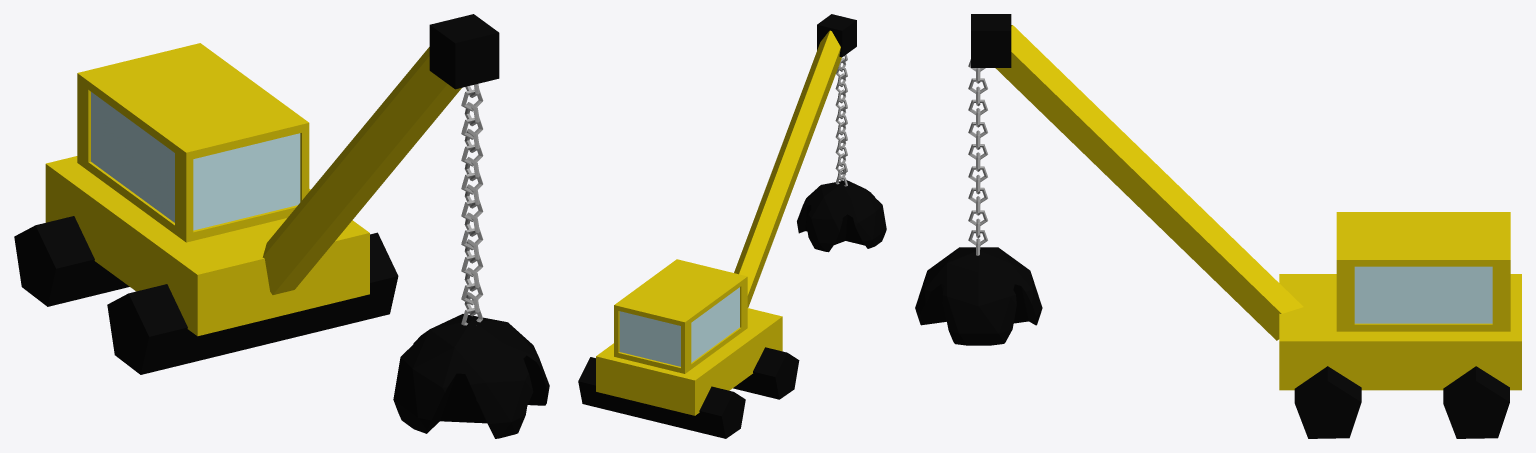
Rendered from Gruas.fbx.
The picture shows the model from 3 angles, left to right: view 1: azimuth 30°, elevation 25°; view 2: azimuth 150°, elevation 25°; view 3: azimuth 270°, elevation 25°; orthographic projection. The views are drawn at different scales.
Parts seen in each view (by area): view 1: Cube, Icosphere, Cylinder, Cube.003, Cylinder.002, Cylinder.001, Cube.001, Torus.001, Torus; view 2: Cube, Cylinder, Icosphere, Cube.003, Cylinder.001, Cylinder.002, Cube.001, Torus.001, Torus; view 3: Cube, Cylinder, Icosphere, Cube.003, Cylinder.002, Cylinder.001, Cube.001, Torus.001, Torus.
Boxes of the visible parts, <box> form: Cube: <box>45,43,369,336</box>; Icosphere: <box>393,314,549,438</box>; Cylinder: <box>262,47,461,294</box>; Cube.003: <box>91,92,300,230</box>; Cylinder.002: <box>107,232,398,374</box>; Cylinder.001: <box>14,216,129,306</box>; Cube.001: <box>429,14,499,89</box>; Torus.001: <box>461,184,483,305</box>; Torus: <box>461,84,483,194</box>; Cube: <box>596,259,782,415</box>; Cylinder: <box>734,30,841,307</box>; Icosphere: <box>797,180,886,252</box>; Cube.003: <box>619,287,739,366</box>; Cylinder.001: <box>578,357,745,438</box>; Cylinder.002: <box>733,347,799,399</box>; Cube.001: <box>817,14,856,57</box>; Torus.001: <box>835,105,847,174</box>; Torus: <box>835,54,847,110</box>; Cube: <box>1279,212,1521,390</box>; Cylinder: <box>995,25,1303,340</box>; Icosphere: <box>915,247,1042,345</box>; Cube.003: <box>1354,266,1492,323</box>; Cylinder.002: <box>1294,366,1361,438</box>; Cylinder.001: <box>1443,366,1509,438</box>; Cube.001: <box>971,14,1011,67</box>; Torus.001: <box>968,144,987,238</box>; Torus: <box>968,59,987,149</box>.
Bounding box in the file's own units: 428 × 758 × 1132.
